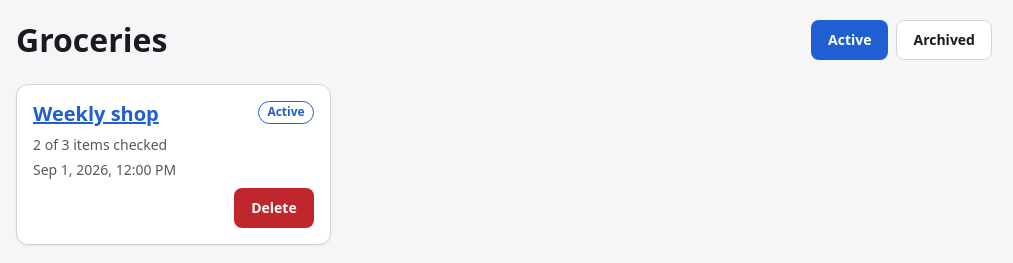
it: GroceryLists › switching to archived re-queries with ?status=archived
Expected: the link "Weekly shop" is shown, [33, 100, 159, 127]
Click the button "Archived".
click(944, 40)  # box [896, 20, 992, 60]
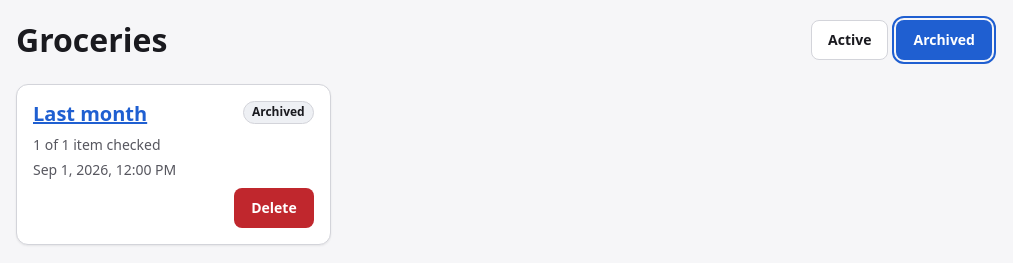
Result: the link "Last month" is shown at [33, 100, 147, 127]
Result: the link "Weekly shop" is gone
Result: the text "1 of 1 item checked" is shown at [33, 135, 160, 154]
